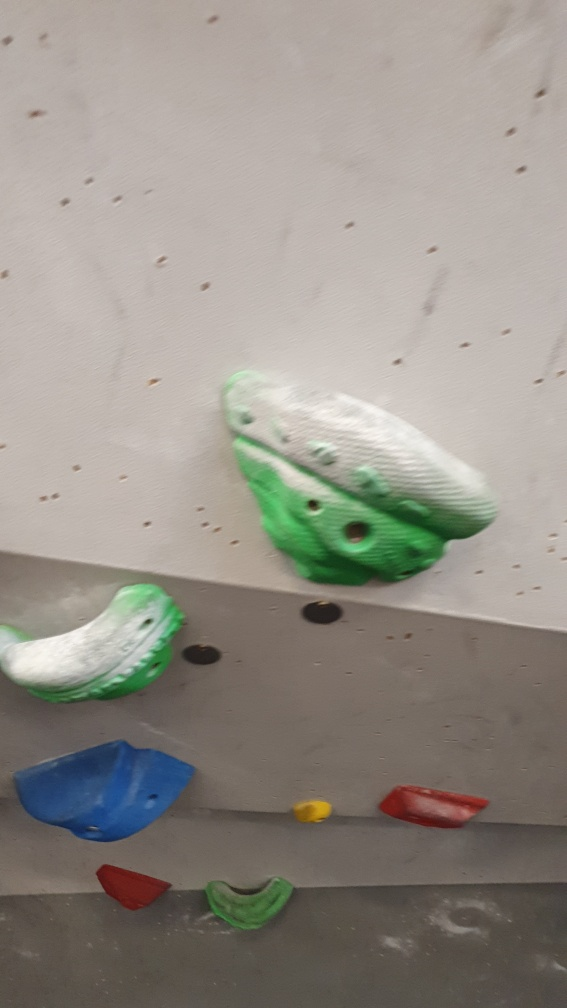Crimp: (381, 782, 487, 833)
Hand Start: (182, 640, 224, 671), (301, 598, 345, 627)
Jug: (226, 361, 502, 589), (1, 581, 186, 712), (205, 874, 298, 937)
Pinch: (13, 736, 196, 844)
